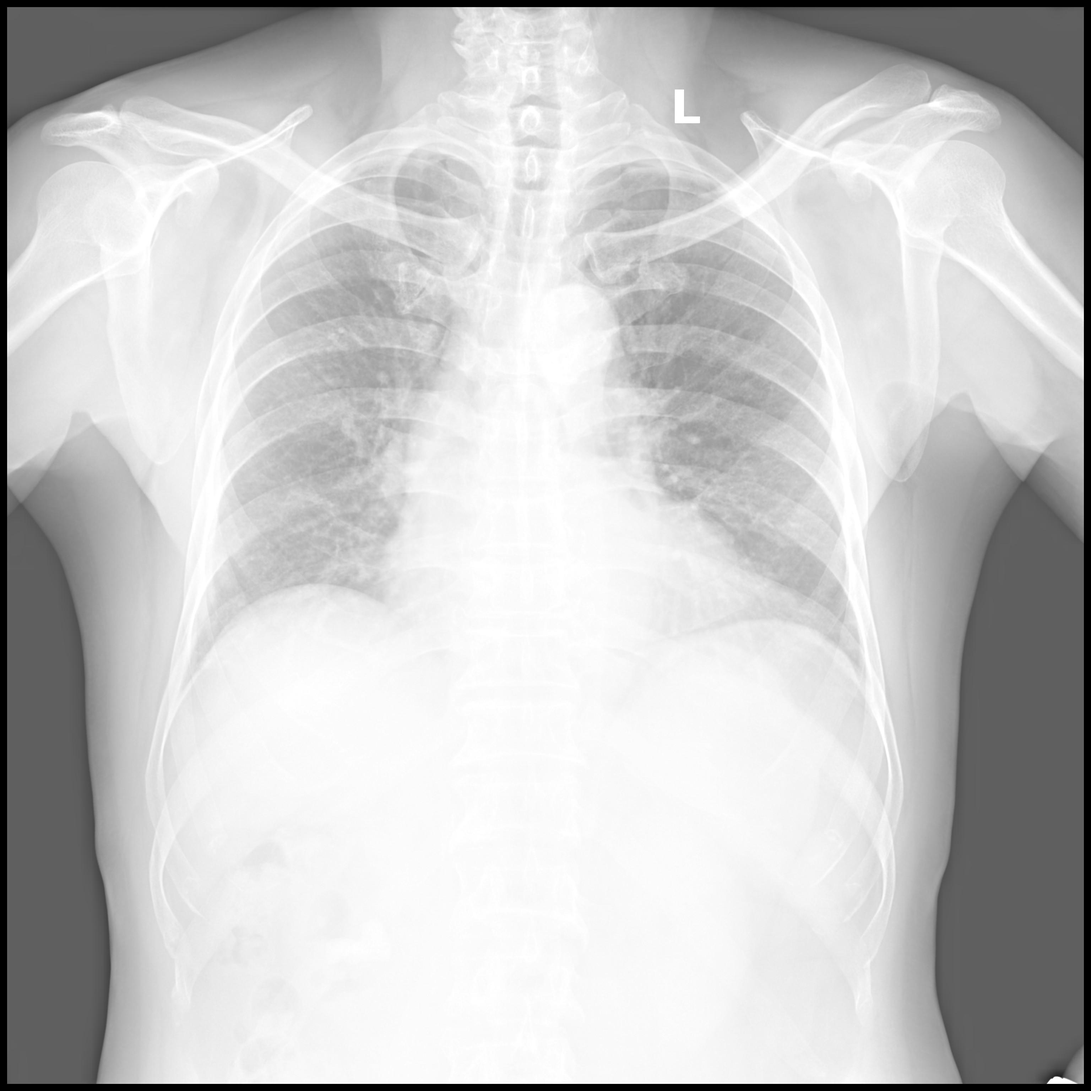Aortic enlargement: (523, 281, 622, 376)
Cardiomegaly: (371, 528, 780, 650)
Pleural thickening: (327, 143, 476, 179), (612, 149, 709, 177)
